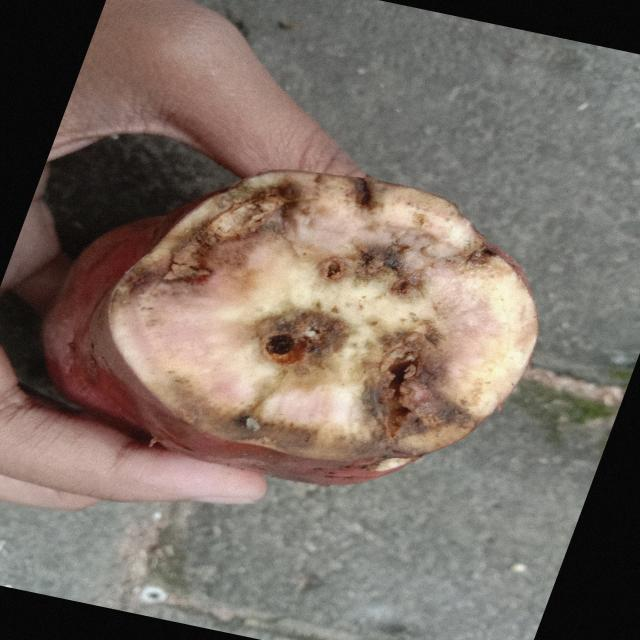Sick Sweet Potato_Tuber Rot: (92, 171, 538, 484)
